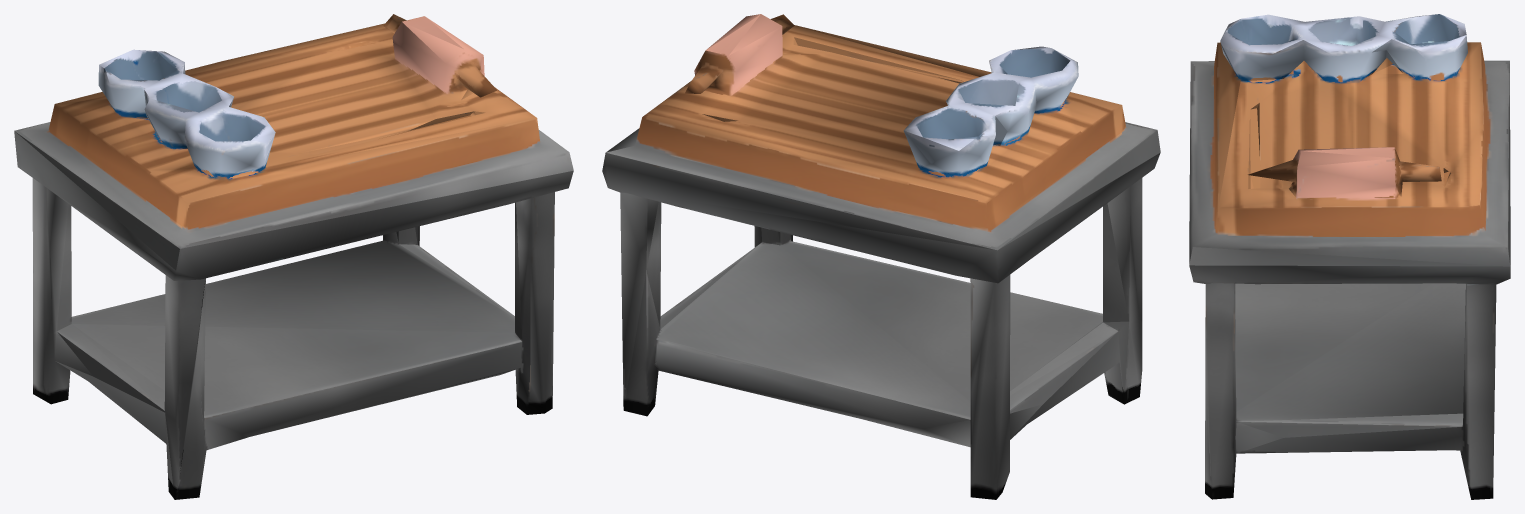
Rendered from supermarket-prep-table.glb.
3 views of the same model, side by side, from view 1: azimuth 30°, elevation 25°; view 2: azimuth 150°, elevation 25°; view 3: azimuth 270°, elevation 25° (orthographic). The views are drawn at different scales.
Parts seen in each view (by area): view 1: geometry_0.001; view 2: geometry_0.001; view 3: geometry_0.001.
Boxes of the visible parts, x1=… form: geometry_0.001: x1=14, y1=14, x2=573, y2=499; geometry_0.001: x1=602, y1=14, x2=1160, y2=499; geometry_0.001: x1=1189, y1=14, x2=1510, y2=499.
Bounding box in the file's own units: 0.9984 × 0.812 × 0.716.
Materials: 1 (1 with a texture image).
